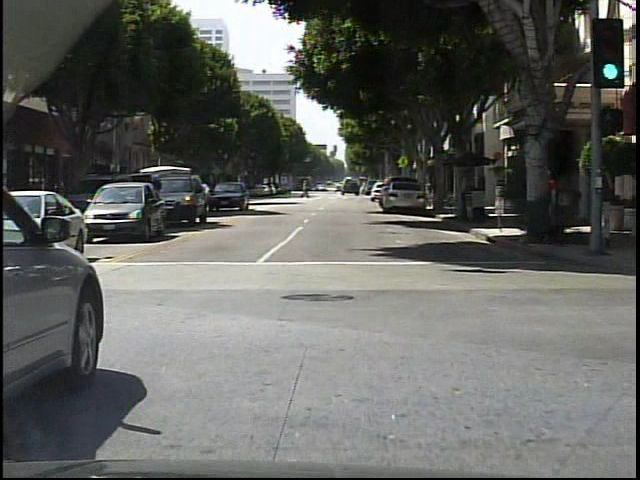person: (590, 157, 613, 246), (544, 171, 559, 233), (461, 171, 476, 221), (299, 179, 309, 198)
